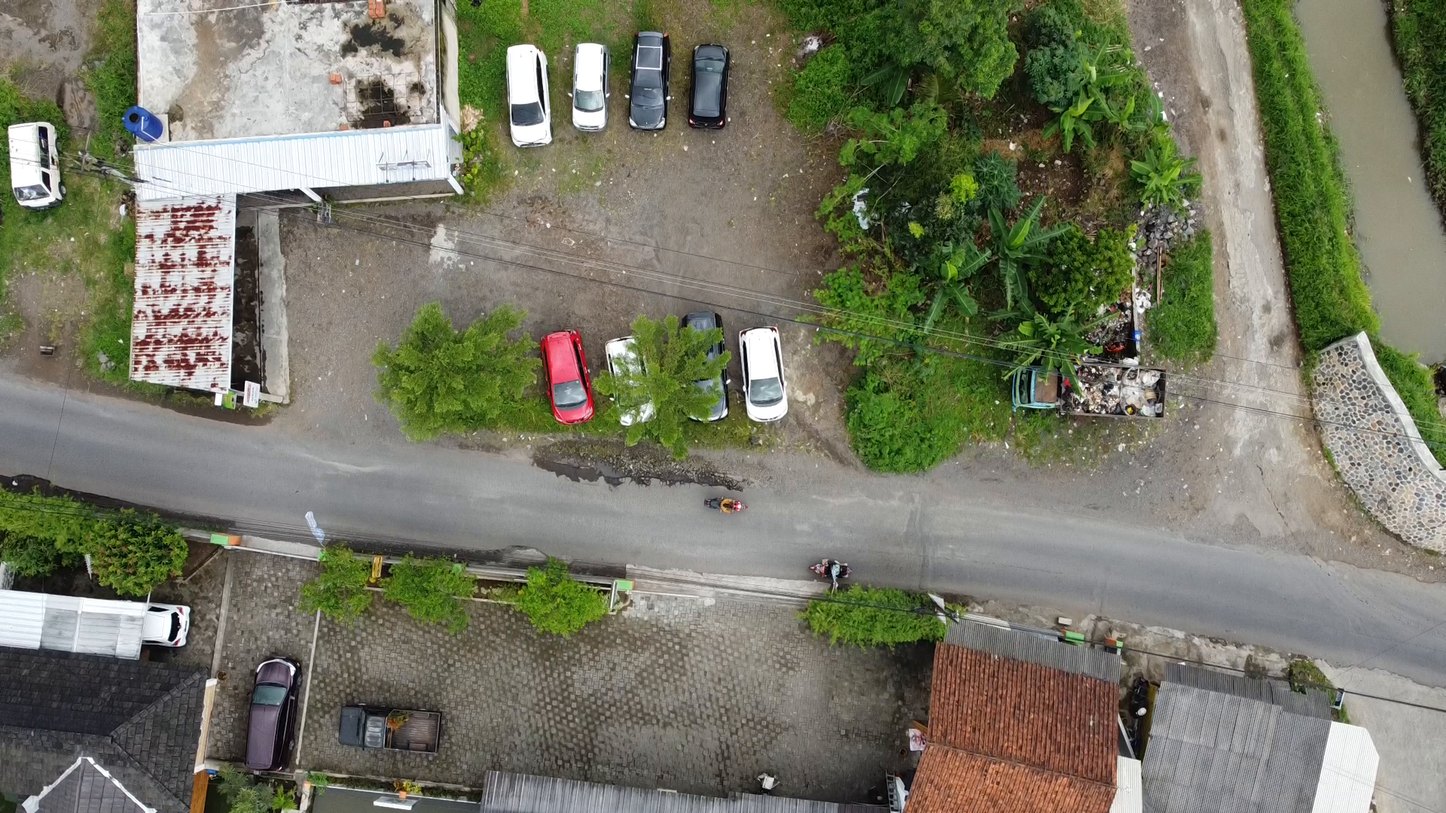mobil: (334, 692, 460, 760), (246, 644, 306, 784), (529, 324, 602, 431), (677, 304, 739, 425), (499, 41, 563, 157), (727, 321, 791, 434), (107, 593, 200, 670), (595, 335, 670, 430), (4, 116, 69, 218), (624, 20, 676, 139), (683, 36, 736, 135), (568, 32, 610, 132)
